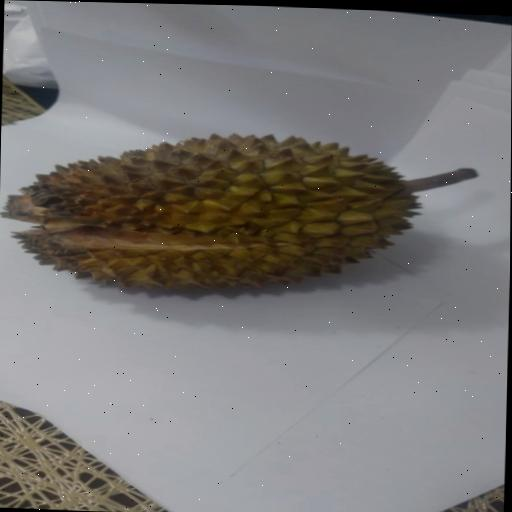rot: (0, 115, 500, 314)
